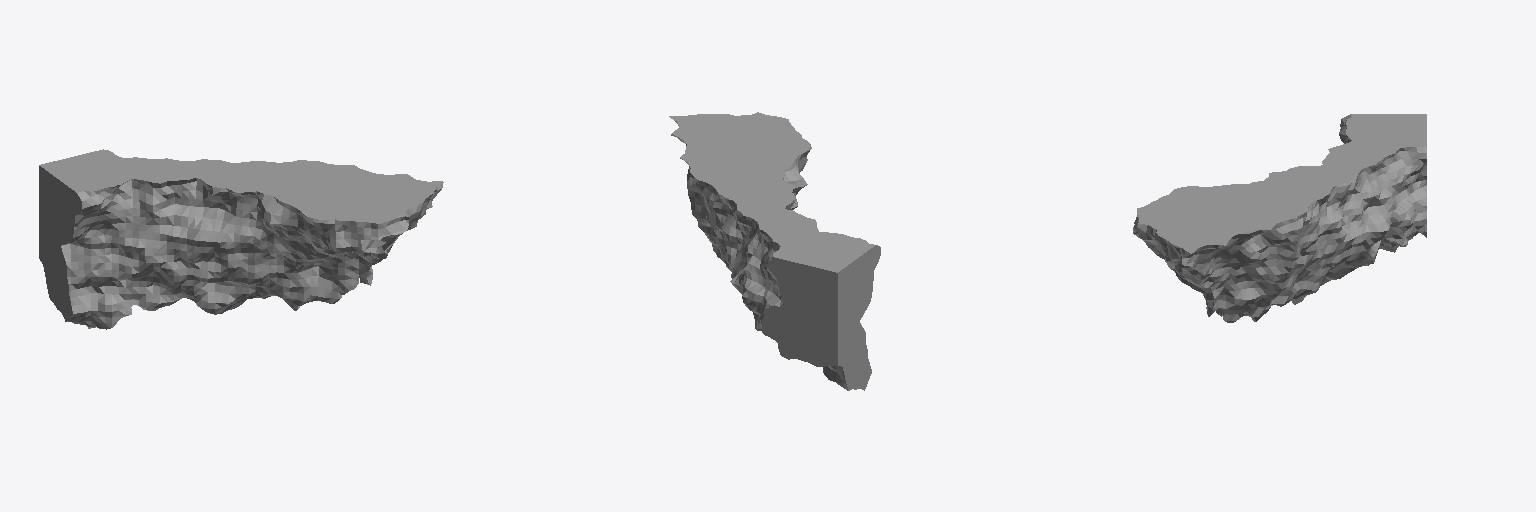
File: Cube_shard.005.obj
The picture shows the model from 3 angles: view 1: azimuth 30°, elevation 25°; view 2: azimuth 150°, elevation 25°; view 3: azimuth 270°, elevation 25°; orthographic projection.
Visible parts, largest first — view 1: Cube_shard.005_Cube_shard.145; view 2: Cube_shard.005_Cube_shard.145; view 3: Cube_shard.005_Cube_shard.145.
Boxes of the visible parts, x1,y1,x2,y2 form: Cube_shard.005_Cube_shard.145: [39, 149, 443, 329]; Cube_shard.005_Cube_shard.145: [669, 112, 880, 390]; Cube_shard.005_Cube_shard.145: [1133, 114, 1426, 322].
Bounding box in the file's own units: 1.83 × 0.8761 × 1.62.